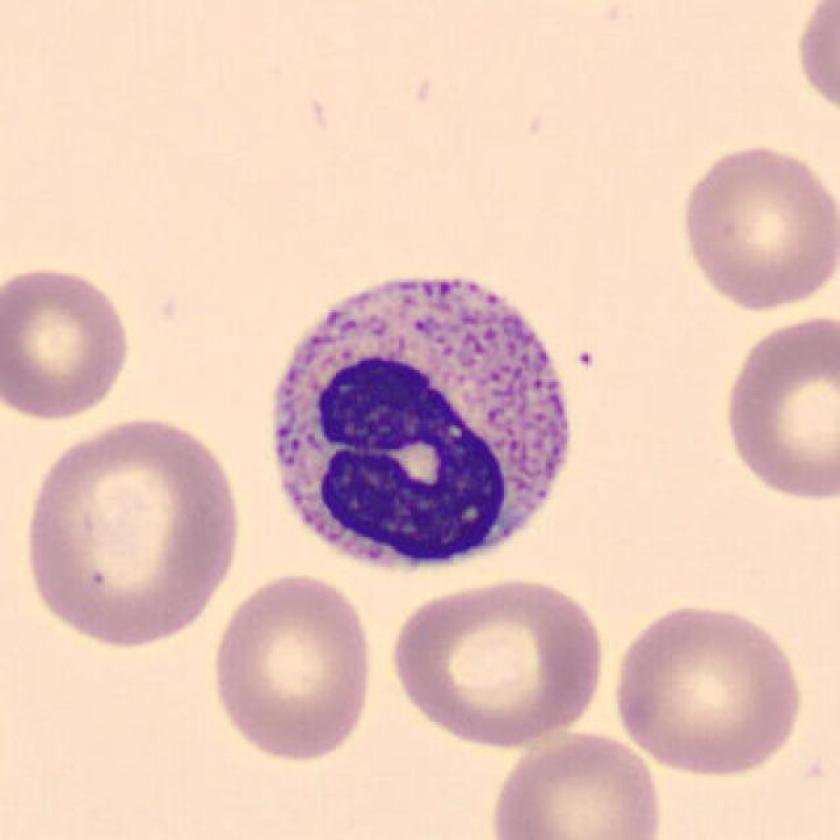neutrophil: (278, 282, 569, 563)
